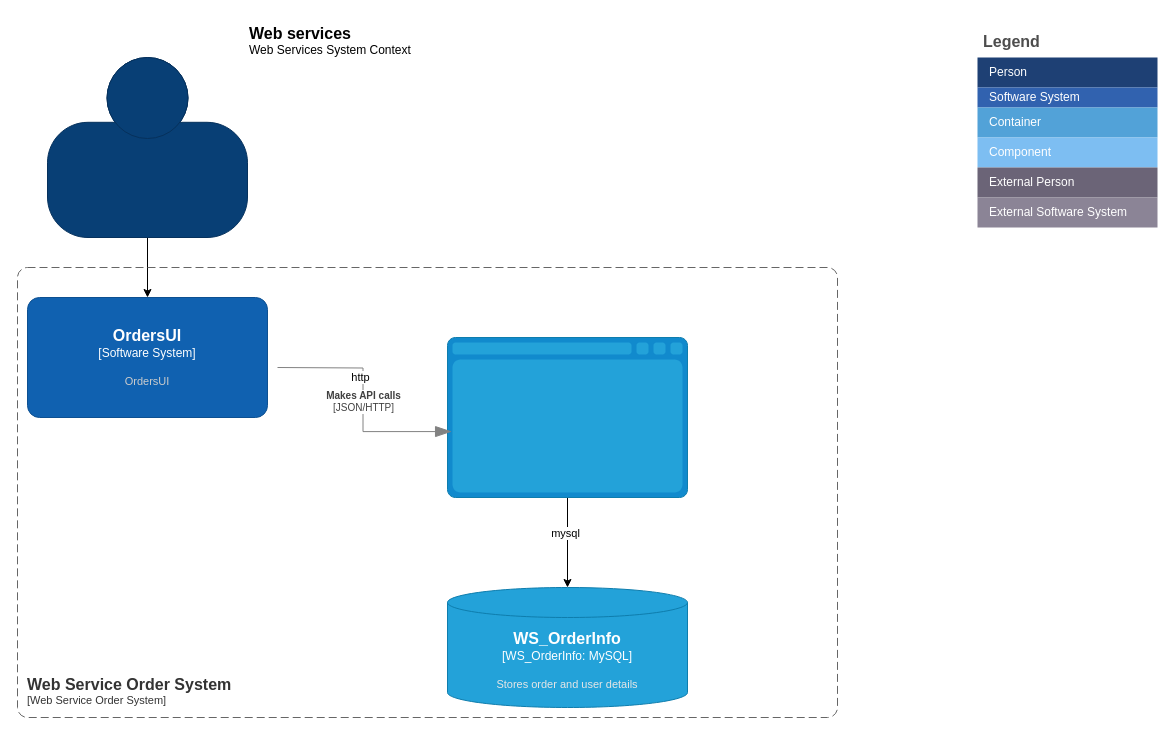
This 1175x735 diagram has some shape labels left out. Each missing label, with the centre of its shape:
"User [Person] Authorized user" goes at point (147, 147).
"WS Server [Web Service Server: Node.js] Web Service Container" goes at point (567, 417).
